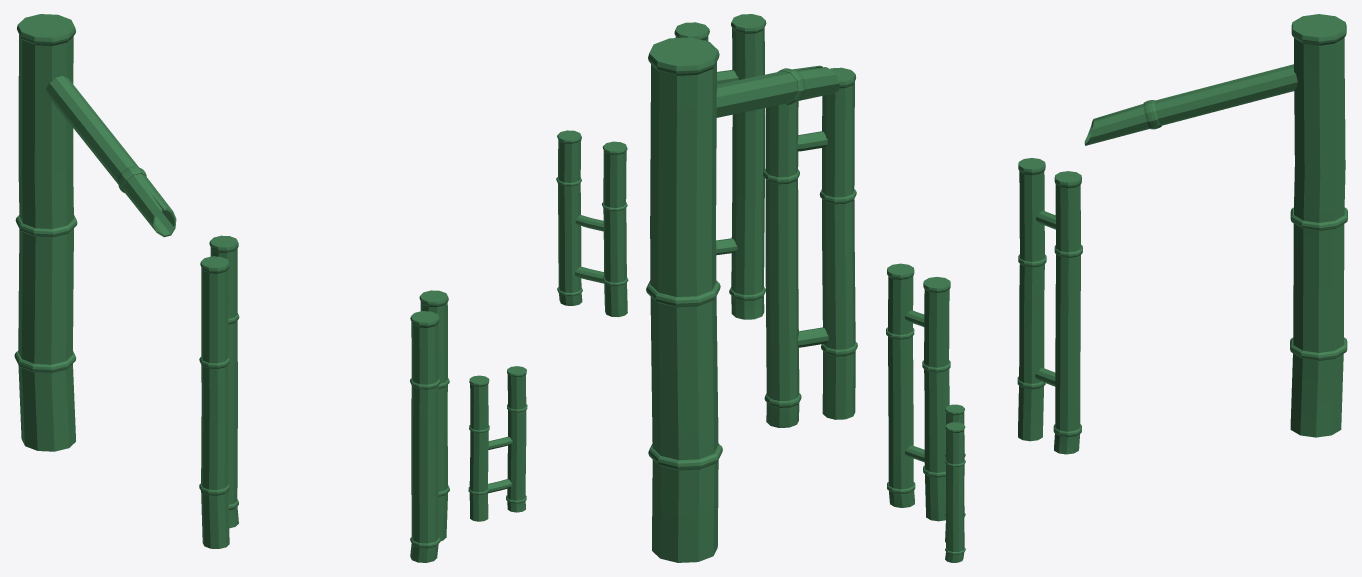
The model's file is bambooSetup.fbx.
3 views of the same model, side by side, from view 1: azimuth 30°, elevation 25°; view 2: azimuth 150°, elevation 25°; view 3: azimuth 270°, elevation 25° (orthographic). The views are drawn at different scales.
Parts seen in each view (by area): view 1: bambooSetup; view 2: bambooSetup; view 3: bambooSetup.
Part boxes in pixels (x1,y1,x2,y2): bambooSetup: (14, 14, 527, 562); bambooSetup: (556, 14, 857, 562); bambooSetup: (886, 14, 1347, 562).
Bounding box in the file's own units: 0.6431 × 0.7935 × 0.8301.
